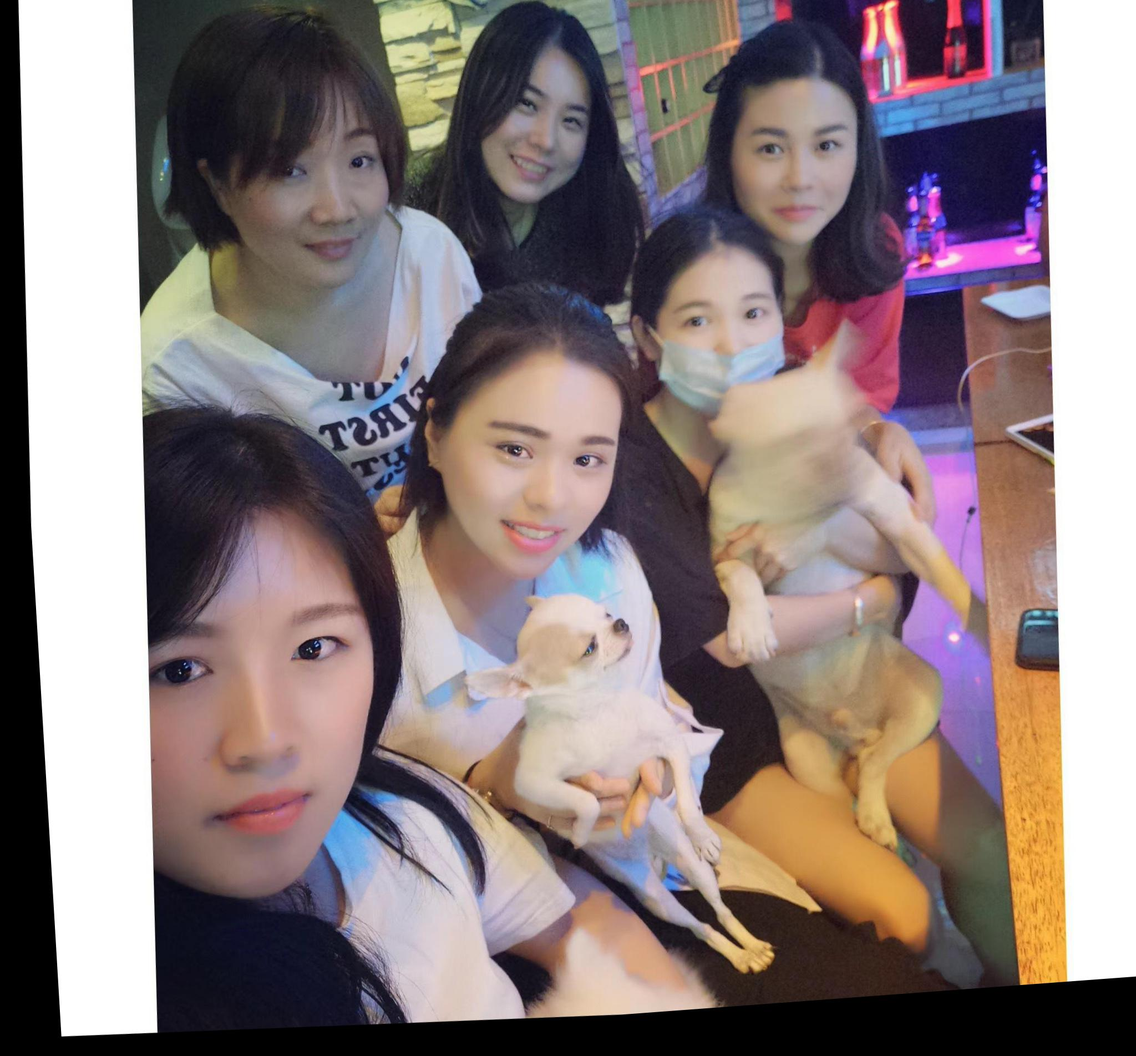NONE: (126, 585, 380, 908), (435, 394, 616, 588), (232, 125, 393, 295), (724, 114, 860, 258), (478, 80, 594, 215)
WRONG: (646, 292, 789, 436)
